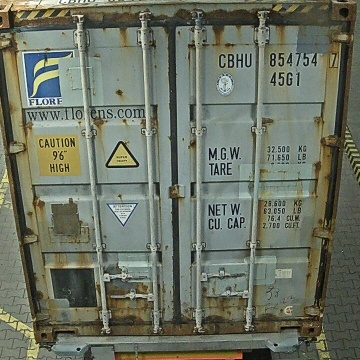serial_id: (219, 51, 339, 67)
